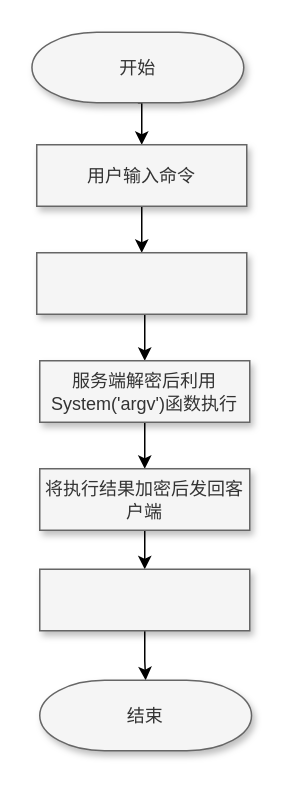
This 288x788 diagram has some shape labels left out. The centre of each missing label's shape, as x and y in pixels:
"加密后传输到服务端" belongs at point 142,285.
"客户端解密信息展示给用户看" belongs at point 145,601.
